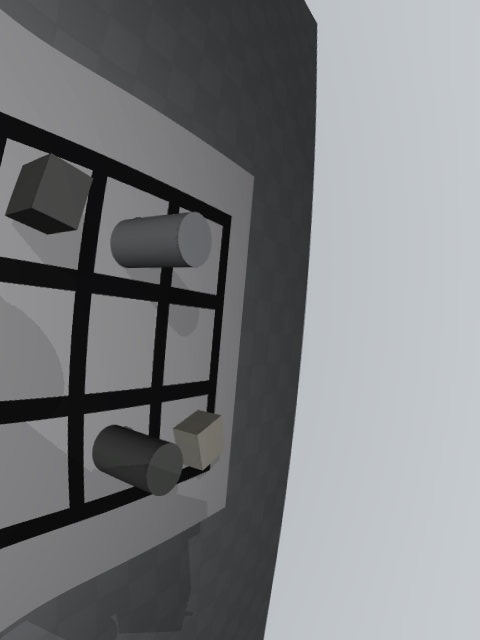can: (110, 212, 211, 268)
cube: (5, 153, 94, 234)
cylinder: (92, 425, 183, 496)
foam: (173, 410, 225, 471)
